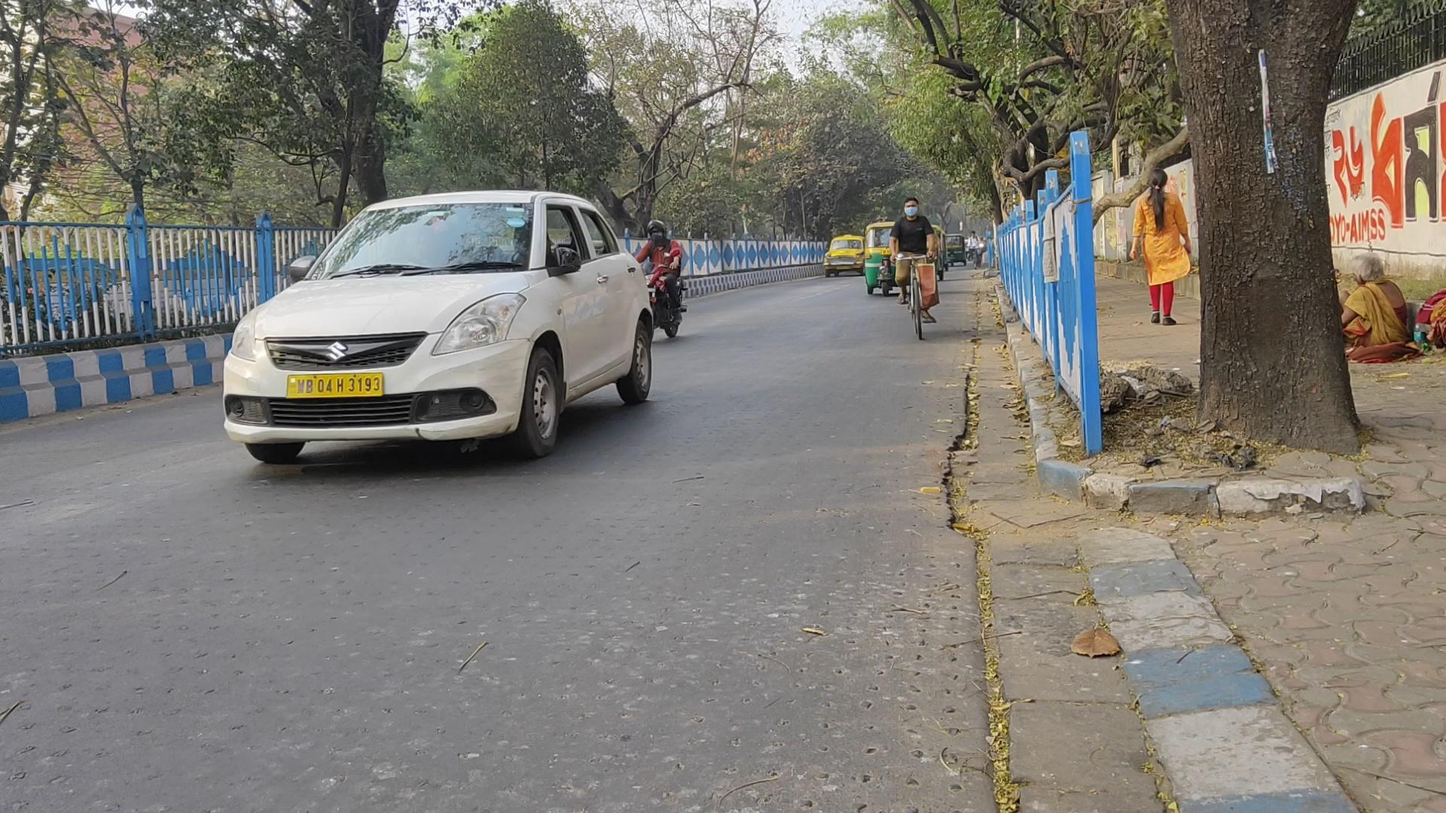Auto: (862, 221, 918, 298), (944, 232, 967, 271)
bike: (627, 219, 689, 345), (888, 196, 941, 341), (967, 229, 984, 271)
car: (222, 190, 654, 463), (823, 233, 866, 279)
